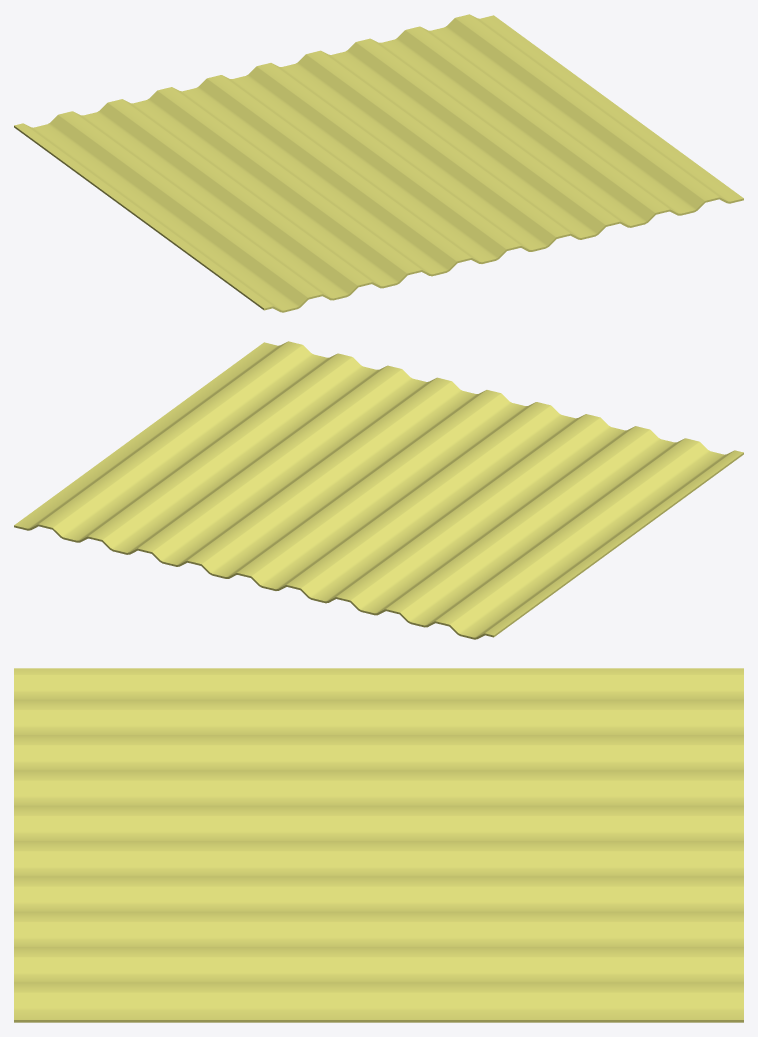
Rendered from ceiling-sprayfoam.glb.
3 renders of one model, top to bottom at view 1: azimuth 30°, elevation 25°; view 2: azimuth 150°, elevation 25°; view 3: azimuth 270°, elevation 25°, orthographic. The views are drawn at different scales.
Visible parts, largest first — view 1: 10FT Sprayfoam_Ceiling; view 2: 10FT Sprayfoam_Ceiling; view 3: 10FT Sprayfoam_Ceiling.
Boxes of the visible parts, x1,y1,x2,y2 form: 10FT Sprayfoam_Ceiling: (14,14,743,312); 10FT Sprayfoam_Ceiling: (14,341,743,639); 10FT Sprayfoam_Ceiling: (14,668,743,1022).
Size of the model in its own units: 2.62 by 0.0463 by 2.37.
